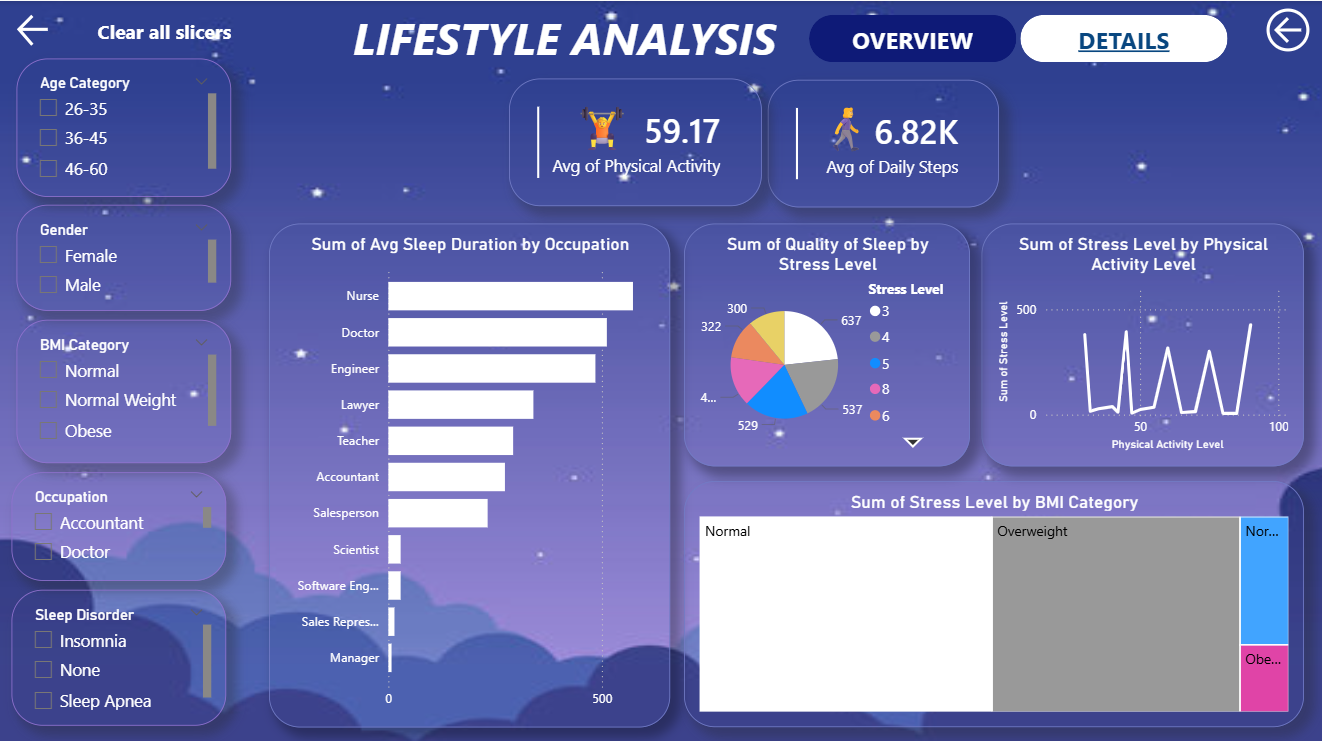

This screenshot's page, from the dashboard's own definition file:
{"tool":"powerbi","page":{"name":"Page 4","canvas":[1280,720],"ordinal":3},"visuals":[{"type":"actionButton","box":[13.3,8.4,42.2,39.8],"z":0},{"type":"actionButton","box":[78.4,4.4,162.5,49.3],"z":1000},{"type":"actionButton","box":[1217.7,1.2,62.3,53.5],"z":2000},{"type":"shape","box":[781.8,13.3,200.3,45.8],"z":8000},{"type":"shape","box":[985.7,13.3,200.3,45.8],"z":9000},{"type":"barChart","fields":{"Category":["Sheet1.Occupation"],"Y":["Sum(Sheet1.Avg Sleep Duration)"]},"box":[260.6,214.7,387.3,486.2],"z":10000},{"type":"lineChart","fields":{"Category":["Sheet1.Physical Activity Level"],"Y":["Sum(Sheet1.Stress Level)"]},"box":[948.3,214.7,311.3,234],"z":11000},{"type":"pieChart","fields":{"Category":["Sheet1.Stress Level"],"Y":["Sum(Sheet1.Quality of Sleep)"]},"box":[661.1,214.7,276.3,234],"z":12000},{"type":"textbox","box":[336.6,1.2,427.1,73.6],"z":13000},{"type":"treemap","fields":{"Group":["Sheet1.BMI Category"],"Values":["Sum(Sheet1.Stress Level)"]},"box":[661.1,463.3,598.4,237.7],"z":14000},{"type":"cardVisual","fields":{"Data":["Avg(Sheet1.Daily Steps)"]},"box":[742.2,76,223.2,123.1],"z":15000},{"type":"textbox","box":[783.2,87.9,60.3,68.8],"z":16000},{"type":"cardVisual","fields":{"Data":["Avg(Sheet1.Physical Activity Level)"]},"box":[492.3,74.5,243.7,123.1],"z":17000},{"type":"textbox","box":[547.8,86.4,66.4,72.4],"z":18000},{"type":"actionButton","box":[335.4,13.3,422.3,44.6],"z":19000},{"type":"slicer","fields":{"Values":["Sheet1.Age Category"]},"box":[16.9,55.5,207.5,133.9],"z":19001},{"type":"slicer","fields":{"Values":["Sheet1.Gender"]},"box":[16.9,196.6,207.5,102.5],"z":19002},{"type":"slicer","fields":{"Values":["Sheet1.BMI Category"]},"box":[16.9,307.6,207.5,138.7],"z":19003},{"type":"slicer","fields":{"Values":["Sheet1.Occupation"]},"box":[12.1,454.8,207.5,105],"z":19004},{"type":"slicer","fields":{"Values":["Sheet1.Sleep Disorder"]},"box":[12.1,568.2,207.5,131.5],"z":19005}]}

Visuals, with their boxes in screenshot pixels (x1, y1, x2, y2), scaled from the page's 1280x720 canvas onto the 1322x741 screenshot:
actionButton: bbox=(14, 9, 57, 50)
actionButton: bbox=(81, 5, 249, 55)
actionButton: bbox=(1258, 1, 1321, 56)
shape: bbox=(807, 14, 1014, 61)
shape: bbox=(1018, 14, 1225, 61)
barChart - Sheet1.Occupation x Sum(Sheet1.Avg Sleep Duration): bbox=(269, 221, 669, 721)
lineChart - Sheet1.Physical Activity Level x Sum(Sheet1.Stress Level): bbox=(979, 221, 1301, 462)
pieChart - Sheet1.Stress Level x Sum(Sheet1.Quality of Sleep): bbox=(683, 221, 968, 462)
textbox: bbox=(348, 1, 789, 77)
treemap - Sheet1.BMI Category x Sum(Sheet1.Stress Level): bbox=(683, 477, 1301, 721)
cardVisual - Avg(Sheet1.Daily Steps): bbox=(767, 78, 997, 205)
textbox: bbox=(809, 90, 871, 161)
cardVisual - Avg(Sheet1.Physical Activity Level): bbox=(508, 77, 760, 203)
textbox: bbox=(566, 89, 634, 163)
actionButton: bbox=(346, 14, 783, 60)
slicer - Sheet1.Age Category: bbox=(17, 57, 232, 195)
slicer - Sheet1.Gender: bbox=(17, 202, 232, 308)
slicer - Sheet1.BMI Category: bbox=(17, 317, 232, 459)
slicer - Sheet1.Occupation: bbox=(12, 468, 227, 576)
slicer - Sheet1.Sleep Disorder: bbox=(12, 585, 227, 720)
